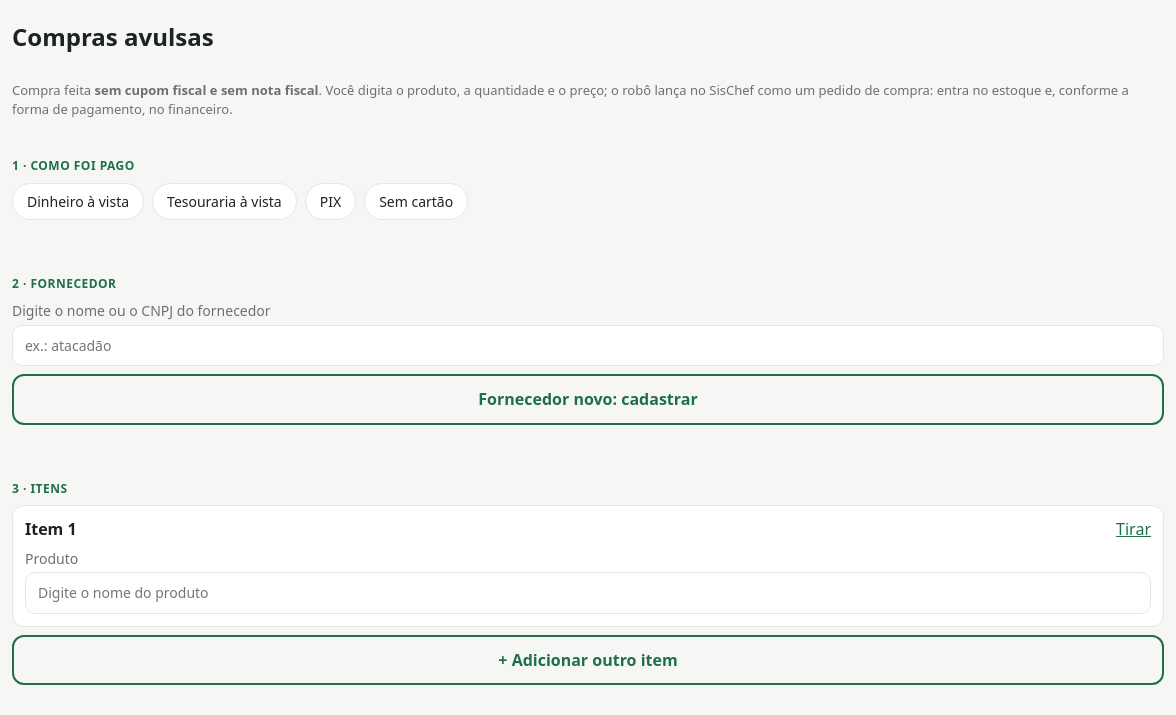
CompraAvulsa › produto novo (cadastrar pelo app, pedido do Ivan de 13/10) › com resultados na busca: sem aviso amarelo, mas o botão "Não é nenhum destes?" continua à mão
Type "tomate" into the field with test id "busca-produto" at (588, 593), box [25,572,1151,614]
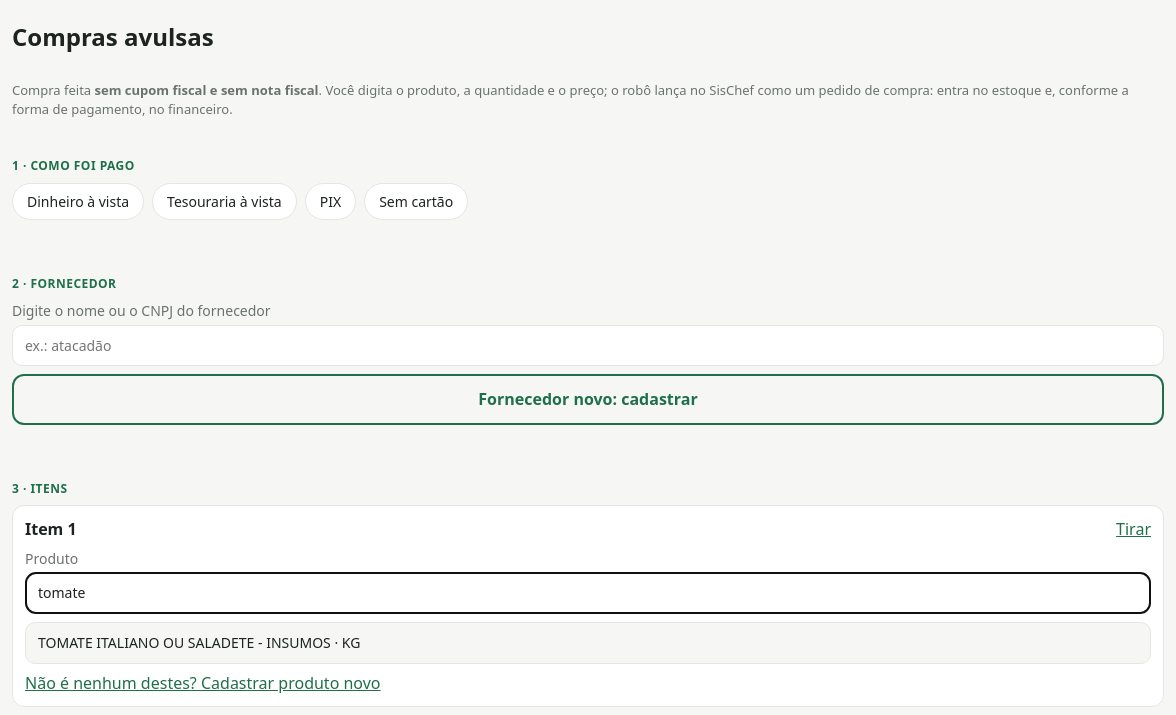
Now the list with test id "achados" is shown, box [25,622,1151,664]
Now the button with test id "abrir-cadastro-produto" shows "Não é nenhum destes?", box [25,672,380,694]
